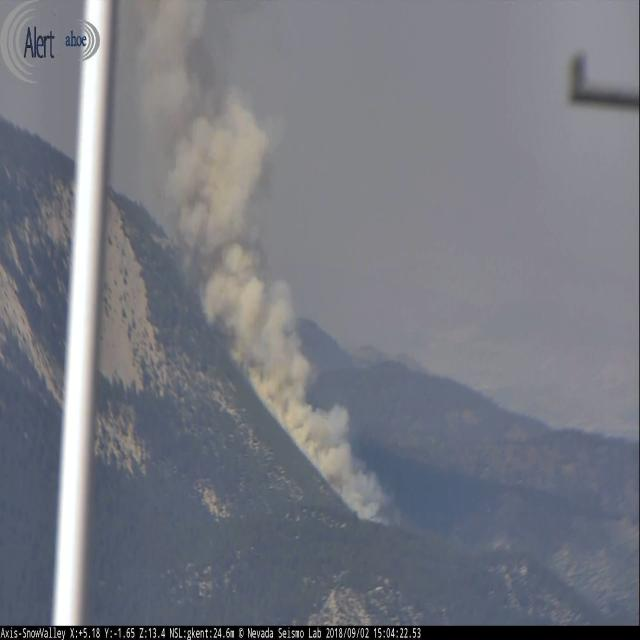smoke: (116, 0, 399, 529)
